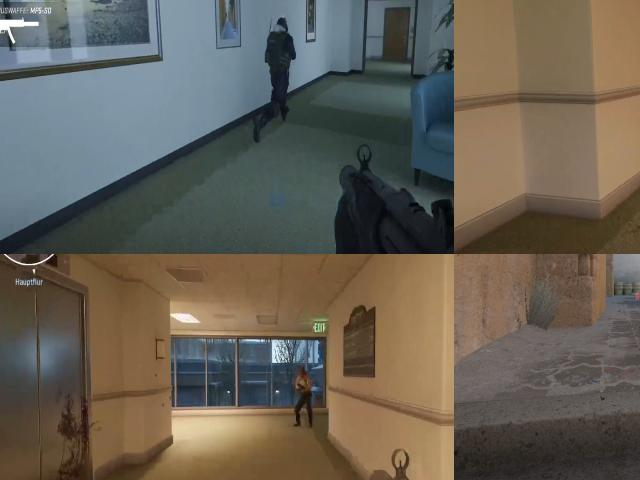CT: (261, 9, 301, 92)
CT-Head: (272, 12, 291, 35)
T: (295, 367, 311, 407)
T-Head: (298, 364, 308, 378)
